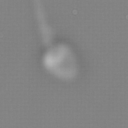normal: (26, 1, 54, 46)
